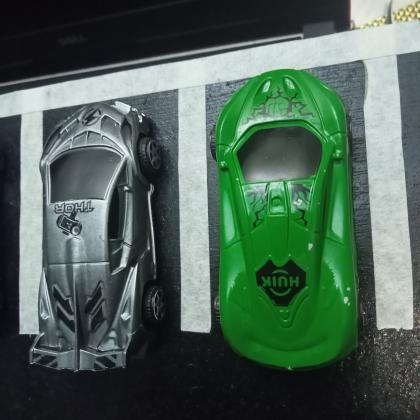Car: (215, 69, 362, 374), (29, 102, 159, 371)
